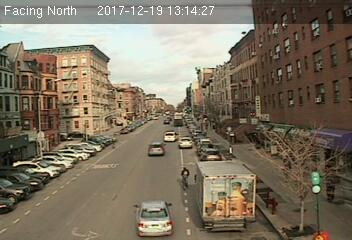bicycle: (179, 167, 190, 193)
car: (133, 198, 174, 235), (146, 140, 166, 155), (178, 136, 192, 148), (164, 130, 177, 142)
truck: (196, 163, 257, 232)
